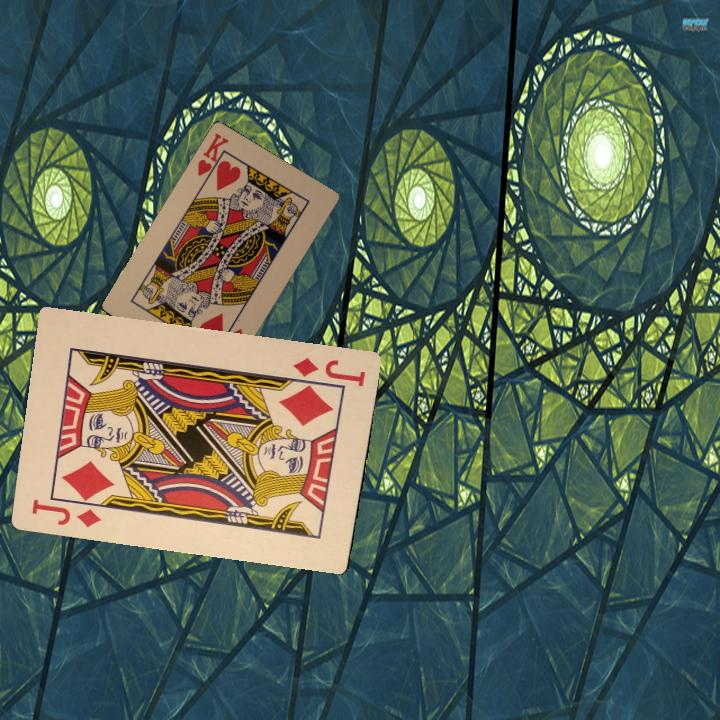Jd: (289, 354, 368, 390), (27, 495, 104, 530)
Kh: (193, 129, 231, 184)
